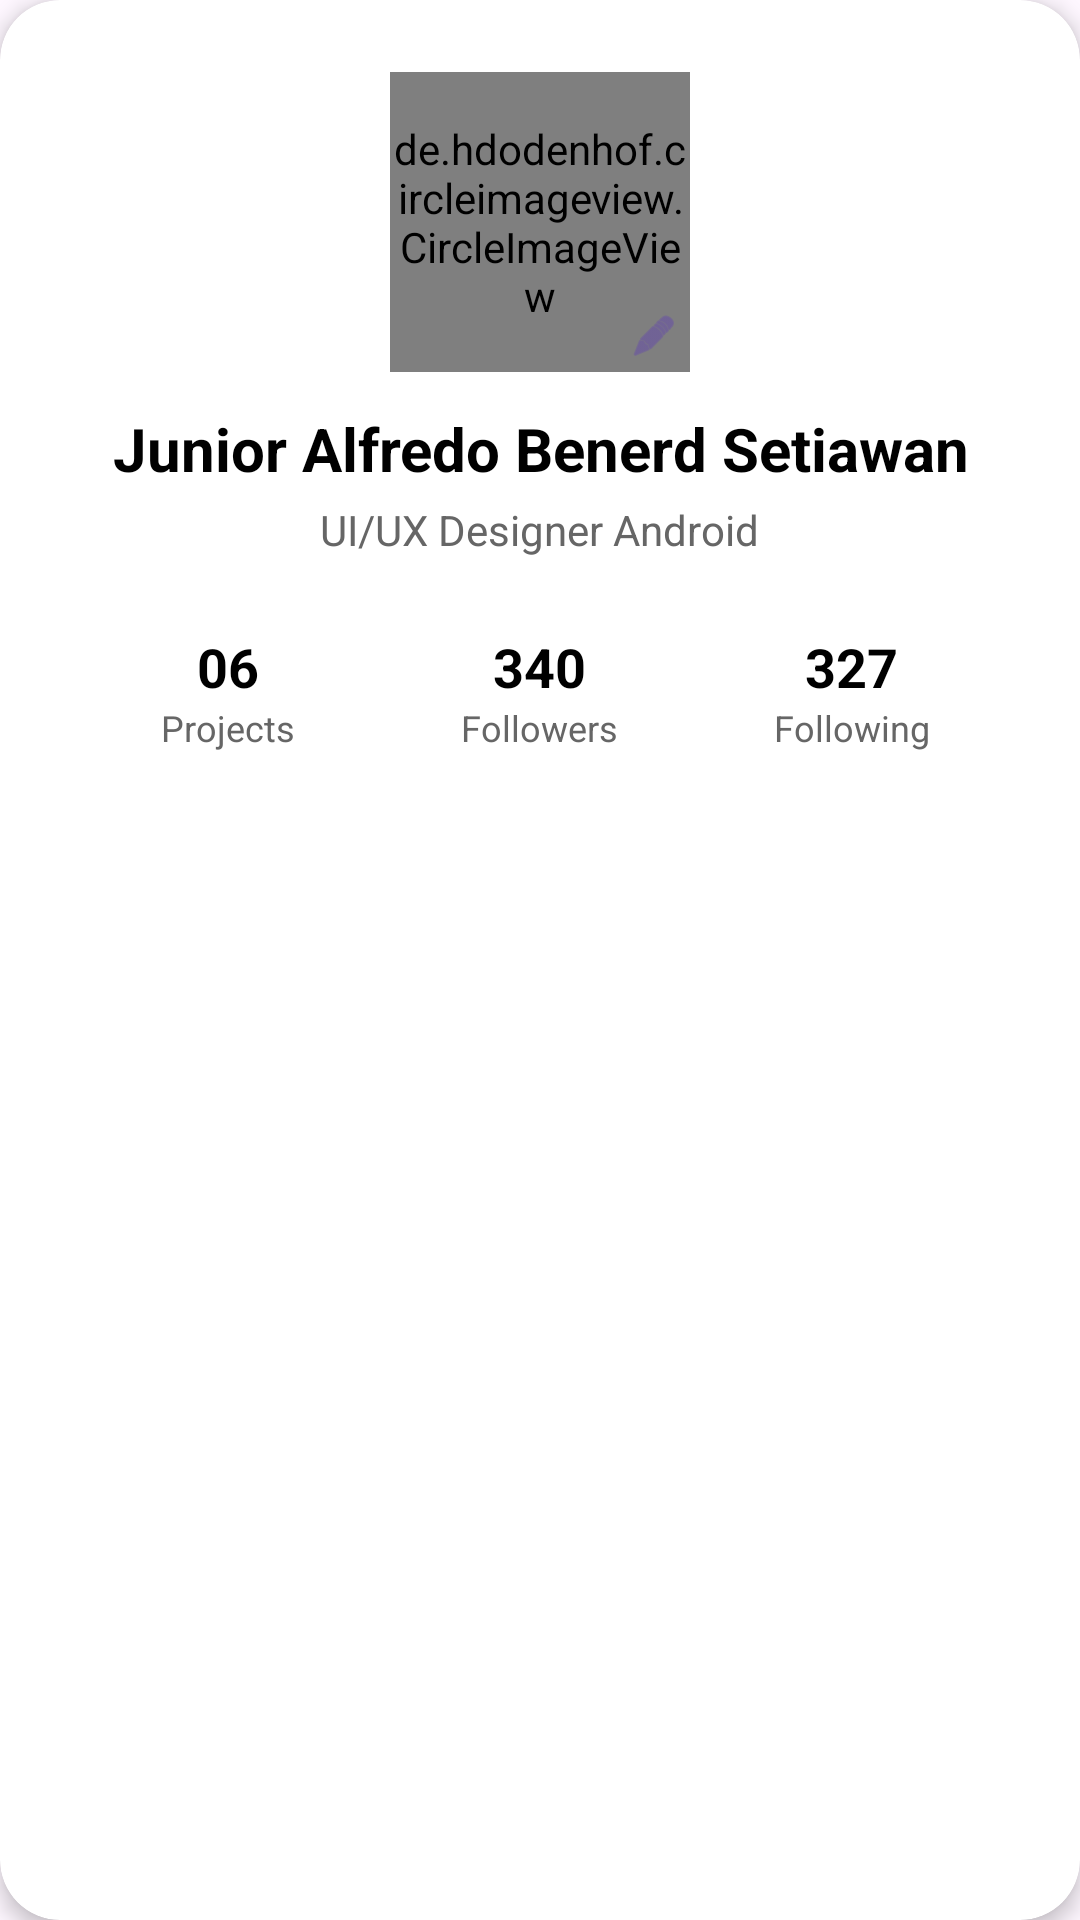

Named icons in this screenshot (1080px×1920px) and their centers, point (x, y):
edit: point (654, 336)
